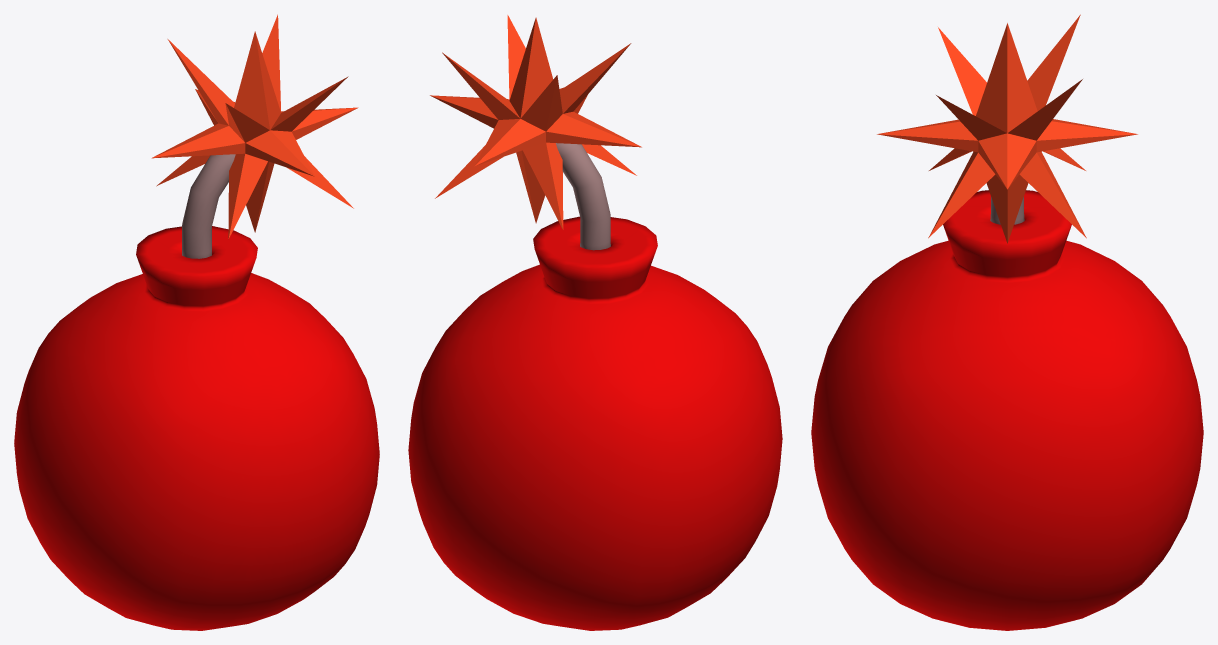
File: bombC.fbx
3 renders of one model, left to right at view 1: azimuth 30°, elevation 25°; view 2: azimuth 150°, elevation 25°; view 3: azimuth 270°, elevation 25°, orthographic. The views are drawn at different scales.
Visible parts, largest first — view 1: bombC; view 2: bombC; view 3: bombC.
Boxes of the visible parts, x1,y1,x2,y2 form: bombC: (14, 14, 379, 630); bombC: (408, 15, 782, 630); bombC: (811, 14, 1203, 630).
Size of the model in its own units: 0.9274 by 1.58 by 0.9084.
